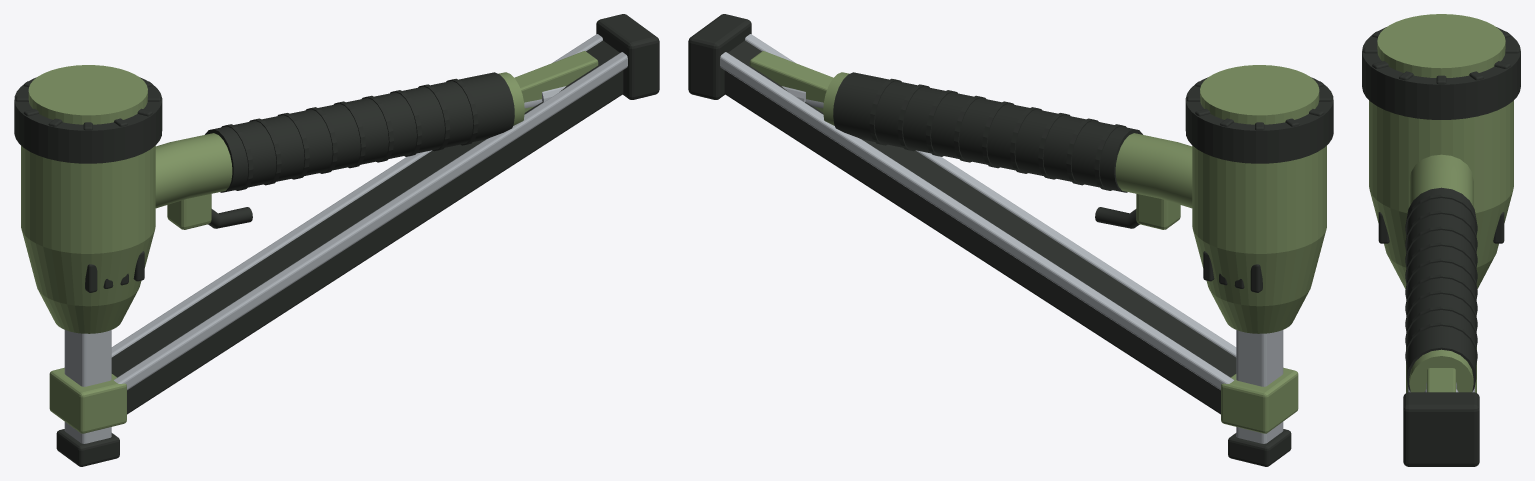
Rendered from A-NEW-20261026-FRAMING-NAILER-001_LOD1_R1.glb.
The picture shows the model from 3 angles, left to right: view 1: azimuth 30°, elevation 25°; view 2: azimuth 150°, elevation 25°; view 3: azimuth 270°, elevation 25°; orthographic projection. The views are drawn at different scales.
Visible parts, largest first — view 1: magazine closed lower channel, main cylinder housing, rubber grip, magazine upper rail -1, rounded rib cap, cap center cover, rear handle core, magazine upper rail 1, magazine nose anchor, magazine rear stopper, contact nose, rear grip magazine brace (+3 smaller); view 2: magazine closed lower channel, main cylinder housing, rubber grip, magazine upper rail 1, rounded rib cap, cap center cover, rear handle core, magazine upper rail -1, magazine nose anchor, magazine rear stopper, contact nose, rear grip magazine brace (+3 smaller); view 3: main cylinder housing, rubber grip, rounded rib cap, cap center cover, magazine rear stopper, rear handle core, rear grip magazine brace, grip band 8, grip band 7, grip band 2, grip band 3, grip band 4 (+6 smaller).
Part boxes in pixels (bbox=[...]): magazine closed lower channel: bbox=[111, 40, 623, 414]; main cylinder housing: bbox=[21, 145, 155, 333]; rubber grip: bbox=[205, 72, 514, 192]; magazine upper rail -1: bbox=[114, 52, 627, 390]; rounded rib cap: bbox=[14, 77, 162, 163]; cap center cover: bbox=[28, 65, 147, 124]; rear handle core: bbox=[155, 72, 524, 208]; magazine upper rail 1: bbox=[111, 34, 602, 357]; magazine nose anchor: bbox=[49, 367, 126, 433]; magazine rear stopper: bbox=[596, 14, 659, 99]; contact nose: bbox=[64, 330, 111, 443]; rear grip magazine brace: bbox=[514, 51, 598, 112]; magazine closed lower channel: bbox=[724, 40, 1236, 414]; main cylinder housing: bbox=[1192, 145, 1326, 333]; rubber grip: bbox=[833, 72, 1142, 192]; magazine upper rail 1: bbox=[720, 52, 1233, 390]; rounded rib cap: bbox=[1185, 77, 1333, 163]; cap center cover: bbox=[1200, 65, 1319, 124]; rear handle core: bbox=[823, 72, 1192, 208]; magazine upper rail -1: bbox=[745, 34, 1236, 357]; magazine nose anchor: bbox=[1221, 367, 1298, 433]; magazine rear stopper: bbox=[688, 14, 751, 99]; contact nose: bbox=[1236, 330, 1283, 443]; rear grip magazine brace: bbox=[749, 51, 833, 112]; main cylinder housing: bbox=[1369, 100, 1513, 288]; rubber grip: bbox=[1406, 187, 1476, 391]; rounded rib cap: bbox=[1362, 27, 1520, 119]; cap center cover: bbox=[1377, 14, 1505, 77]; magazine rear stopper: bbox=[1403, 392, 1479, 466]; rear handle core: bbox=[1409, 154, 1473, 392]; rear grip magazine brace: bbox=[1427, 368, 1455, 392]; grip band 8: bbox=[1405, 322, 1477, 364]; grip band 7: bbox=[1405, 306, 1477, 347]; grip band 2: bbox=[1405, 226, 1477, 267]; grip band 3: bbox=[1405, 242, 1477, 283]; grip band 4: bbox=[1405, 258, 1477, 299].
Size of the model in its own units: 0.551 by 0.31 by 0.114.
